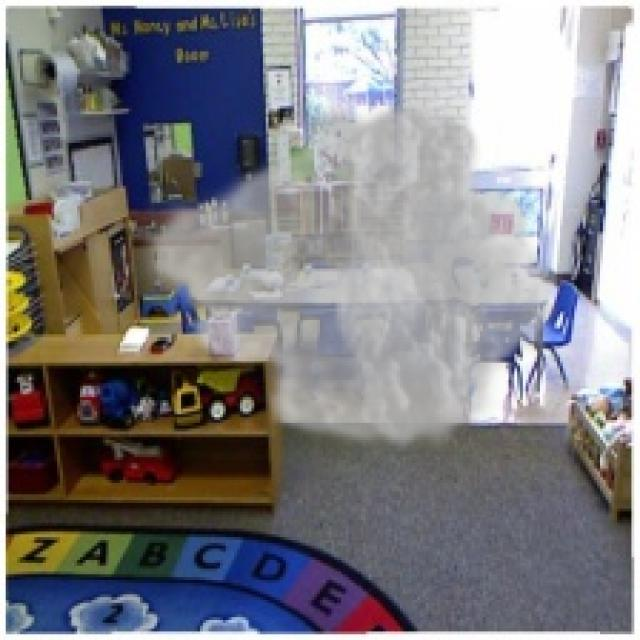smoke: (140, 94, 560, 457)
